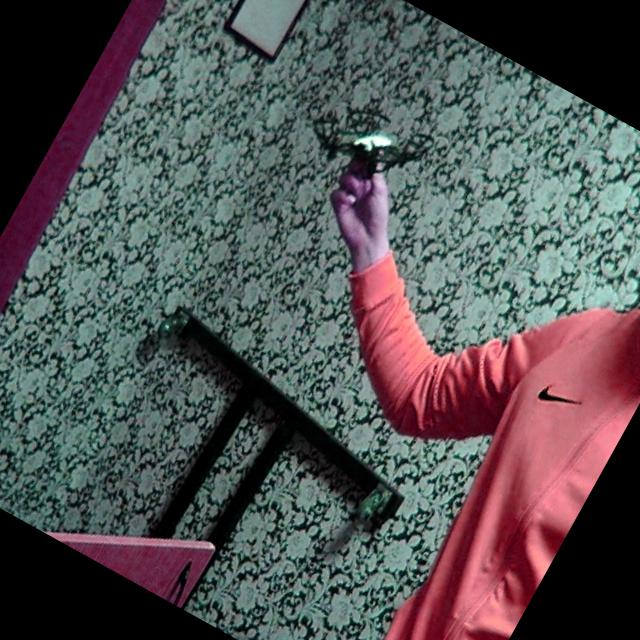drone: (285, 68, 471, 228)
